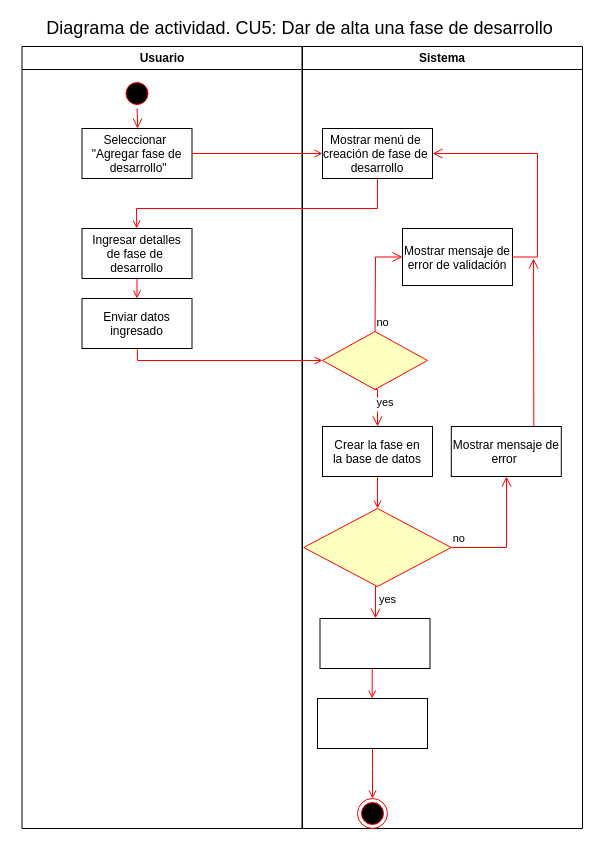
The diagram is 604 pixels wide and 846 high, and some of its shapes have lost their labels. Each missing label, with the centre of its shape:
"Mostrar mensaje de creación exitosa" goes at point 374,643.
"Redireccionar a interfaz para administrar funciones" goes at point 372,723.
"¿La fase se dio de alta correctamente?" goes at point 377,547.
"¿Los datos son válidos?" goes at point 375,360.
